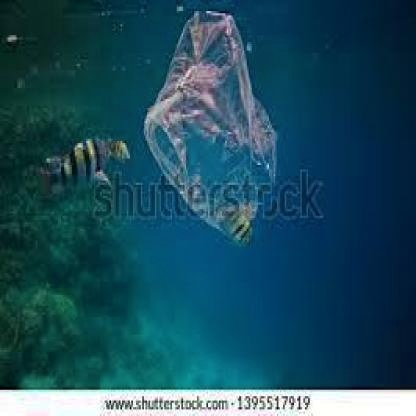pbag: (140, 7, 282, 244)
